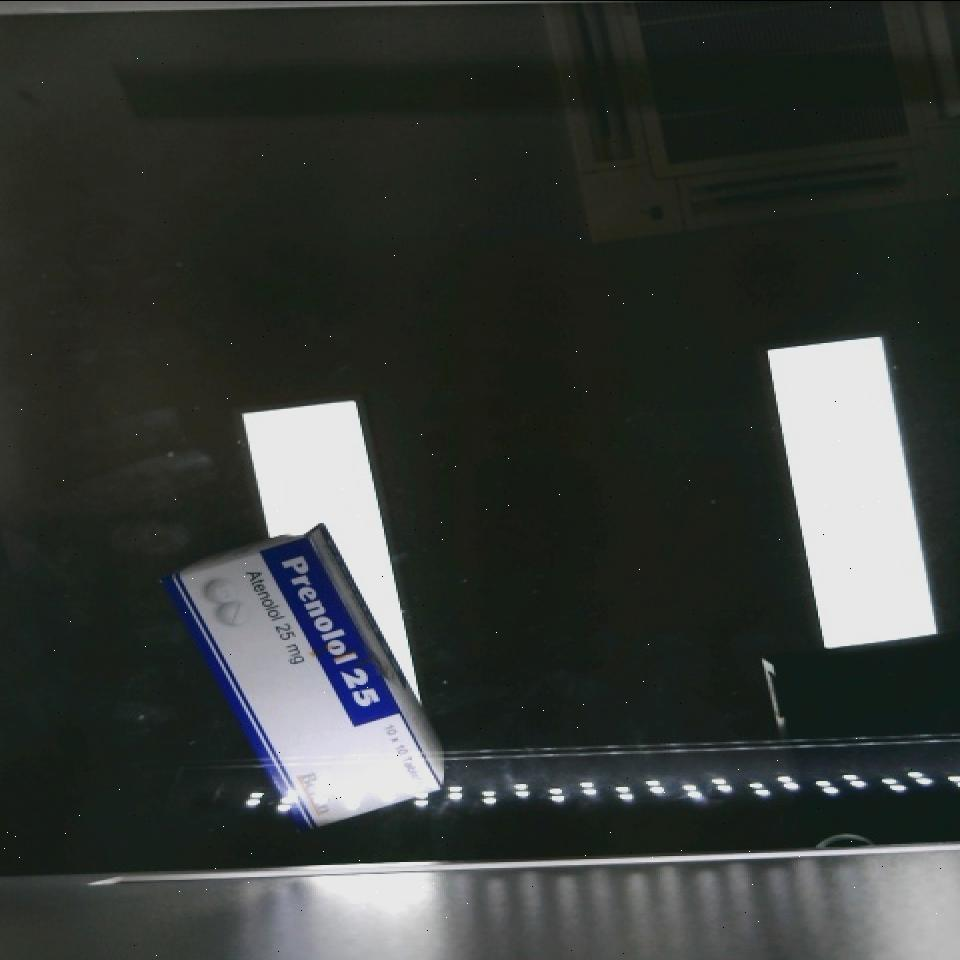medicine_box: (162, 512, 444, 859)
medicine_label_obb: (256, 535, 401, 735)
